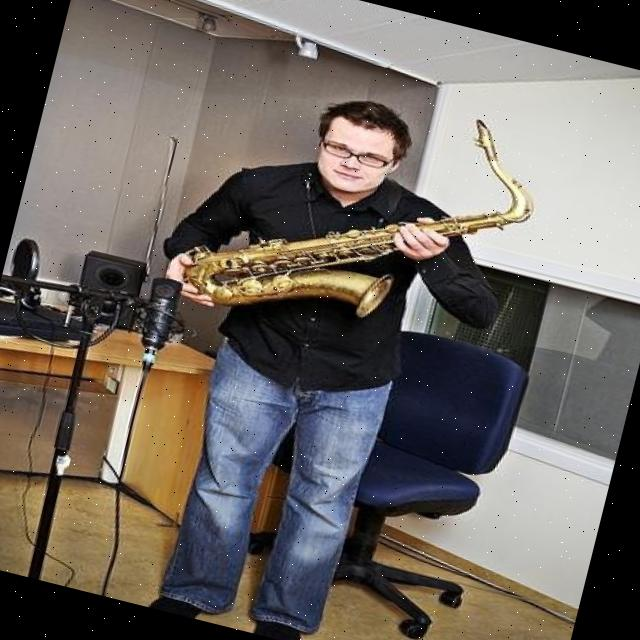saxophone: (168, 56, 554, 378)
